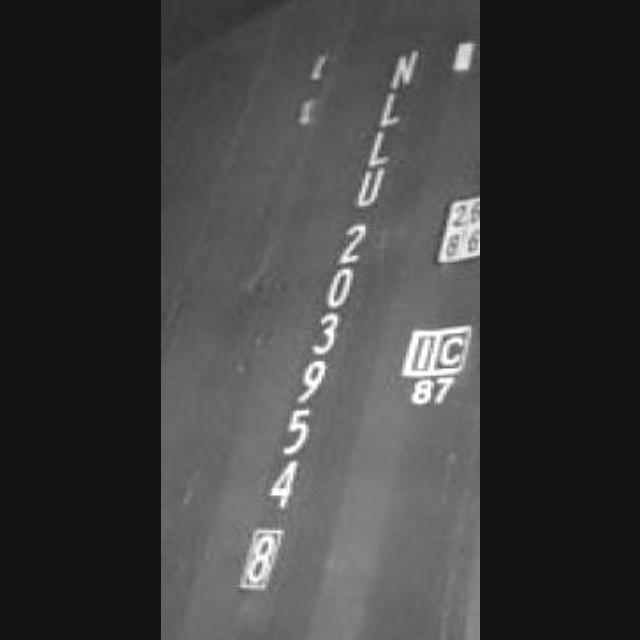0: (321, 268, 361, 312)
2: (334, 218, 372, 272), (451, 198, 469, 232)
3: (310, 310, 344, 360)
4: (263, 456, 311, 510)
5: (282, 407, 318, 463), (463, 193, 479, 229)
6: (463, 228, 479, 258)
7: (435, 372, 455, 410)
8: (239, 527, 285, 597), (407, 375, 433, 411), (441, 228, 463, 264)
9: (294, 358, 330, 408)
c: (439, 332, 465, 370)
i: (409, 328, 433, 372)
l: (358, 124, 396, 174), (372, 92, 412, 126)
n: (382, 42, 426, 94)
u: (351, 168, 394, 216)
